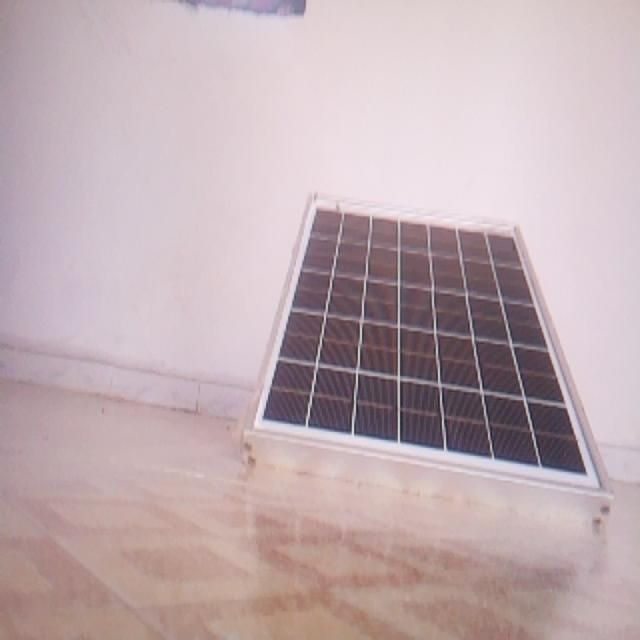Normal Solar Panel: (245, 195, 614, 528)
